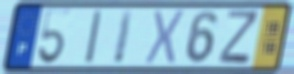5: (36, 7, 77, 67)
6: (184, 9, 220, 66)
I: (111, 8, 136, 66), (84, 8, 105, 66)
X: (143, 8, 188, 67)
Z: (216, 9, 261, 67)
